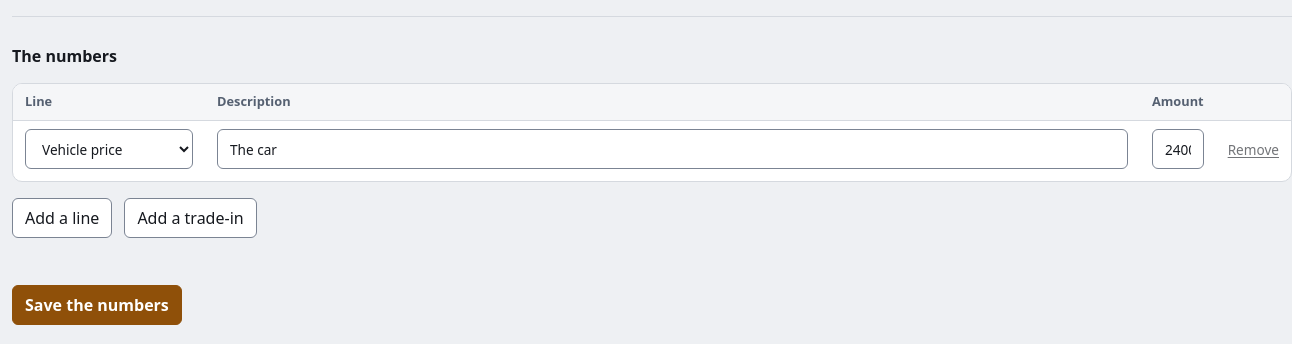
Test: entering the numbers › shows the server’s refusal rather than inventing one
This screenshot has width=1292, height=344.
Step 1. Click the button "Save the numbers" → [97, 305], box x1=12 y1=285 x2=182 y2=325
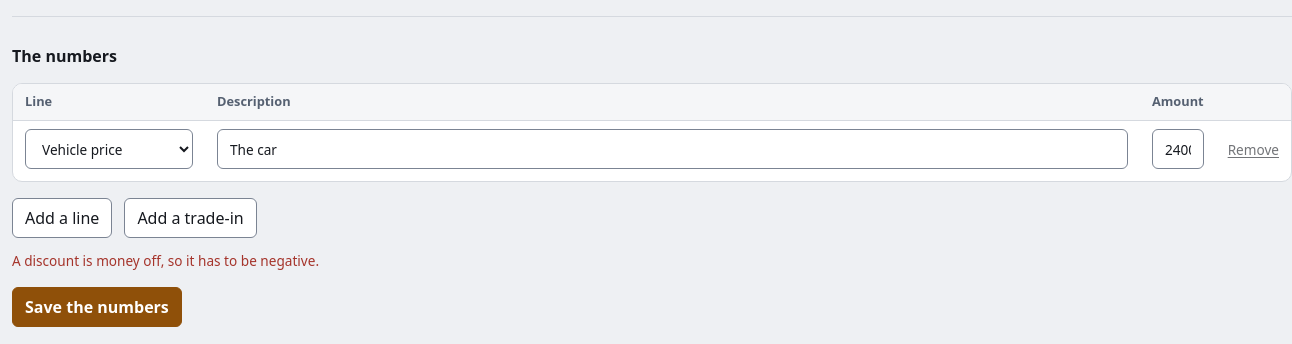
Expected: the text "A discount is money off, so it has to be negative." is shown, x1=12 y1=251 x2=319 y2=270
